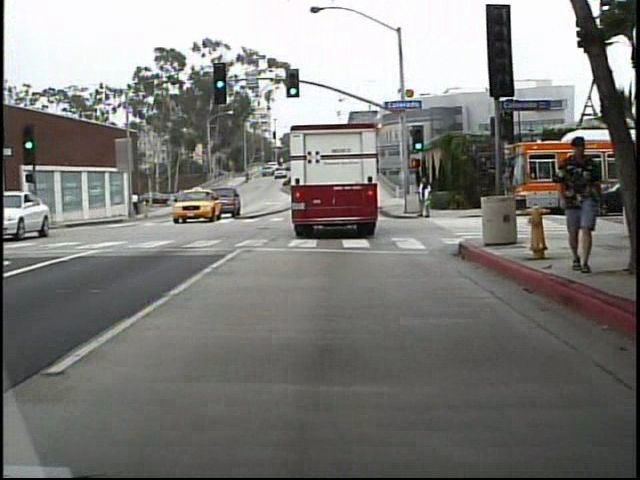person: (554, 129, 596, 282), (412, 176, 436, 222), (25, 189, 42, 231), (128, 187, 145, 220)
